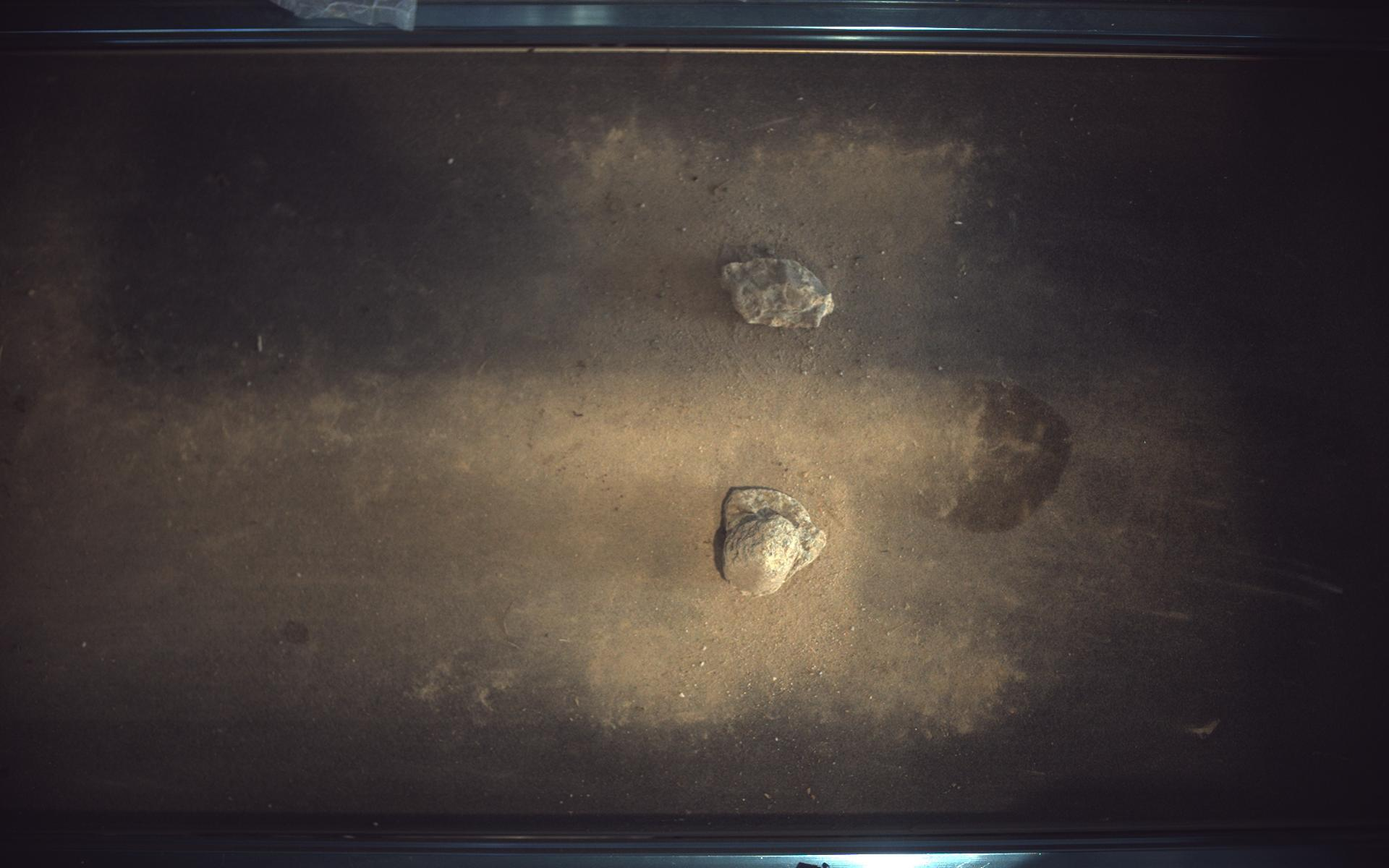stone: (719, 488, 828, 597), (723, 258, 836, 328)
